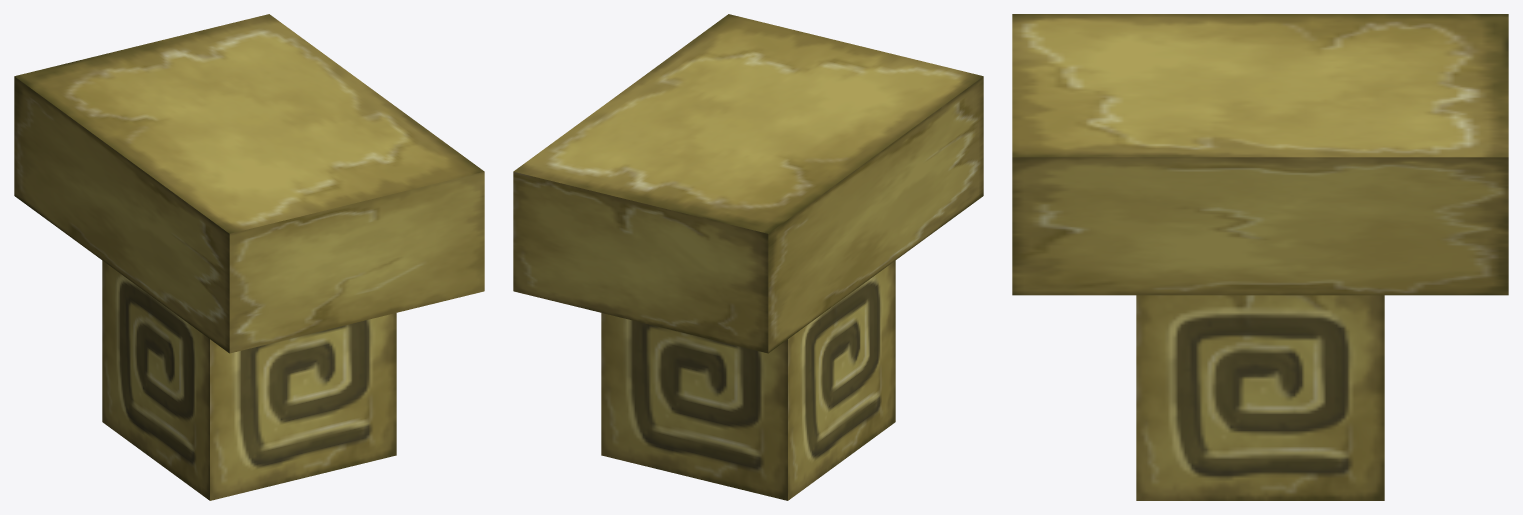
The model's file is Fence 1 Dark.fbx.
3 views of the same model, side by side, from view 1: azimuth 30°, elevation 25°; view 2: azimuth 150°, elevation 25°; view 3: azimuth 270°, elevation 25° (orthographic). The views are drawn at different scales.
Visible parts, largest first — view 1: Fence 1 Dark; view 2: Fence 1 Dark; view 3: Fence 1 Dark.
Part boxes in pixels (x1,y1,x2,y2): Fence 1 Dark: (14, 14, 484, 500); Fence 1 Dark: (513, 14, 983, 500); Fence 1 Dark: (1012, 14, 1508, 500).
Size of the model in its own units: 2.74 by 3.23 by 4.
